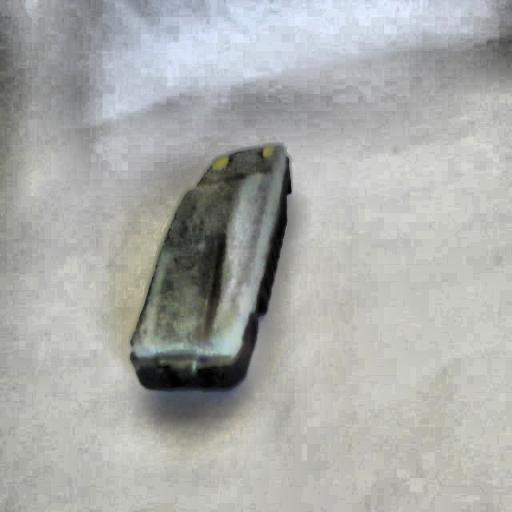normal_car: (123, 141, 295, 396)
